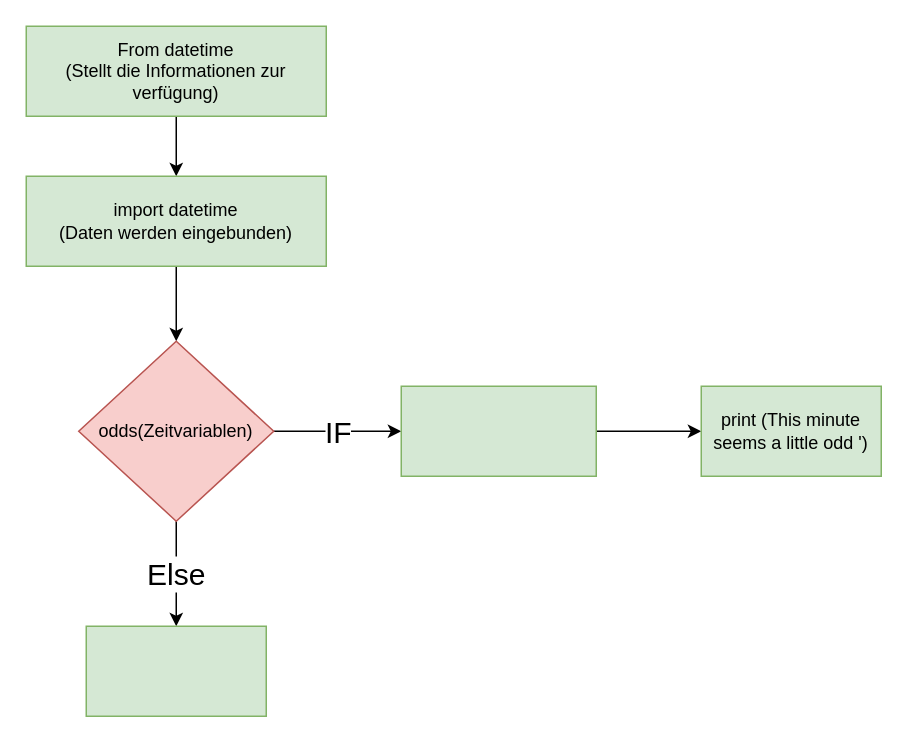
This 908x743 diagram has some shape labels left out. The centre of each missing label's shape, as x and y in pixels:
"in odds" (In den Zeitvariablen): pixel 498 430
print ('not an odd minute'): pixel 175 670
